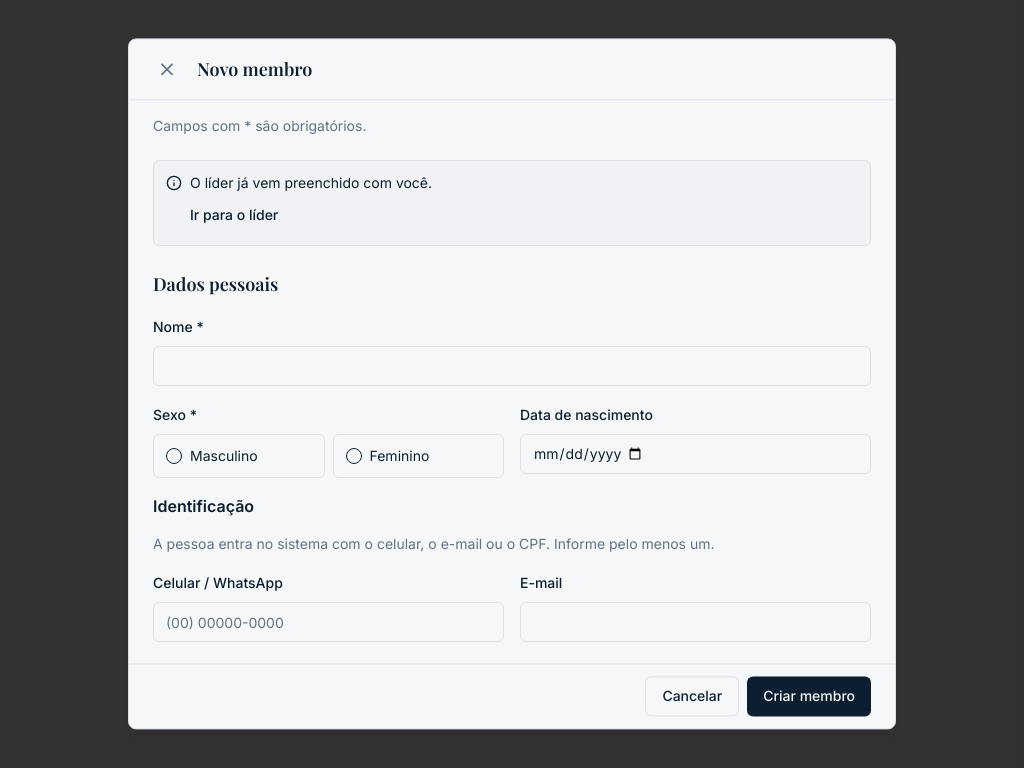
UX-06: celular (tabela da T3) › Dado +55 (51) 98888-7777 digitado ou colado, quando sai do campo, então mostra (51) 98888-7777 e nenhum dígito foi cortado antes
expect the button "Criar membro" is shown: met, box x1=747 y1=677 x2=871 y2=717
Type "+55 (51) 98888-7777" into the field labelled "Celular / WhatsApp" at [328, 622], box x1=153 y1=602 x2=504 y2=642
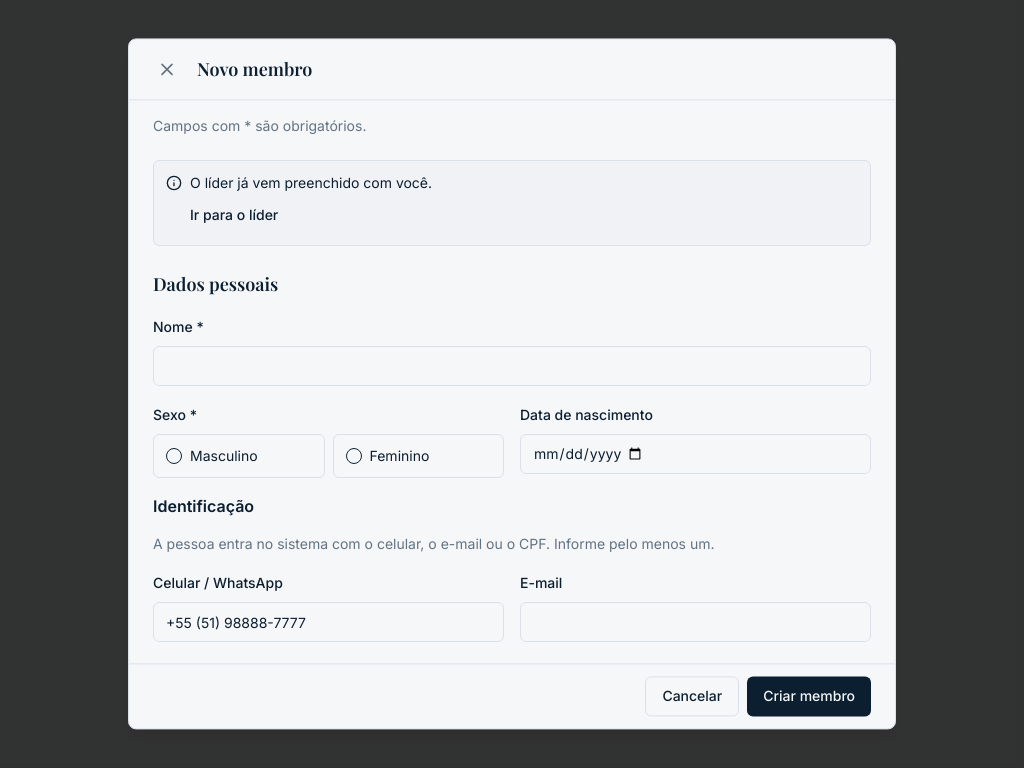
Leave the field labelled "Celular / WhatsApp", box x1=153 y1=602 x2=504 y2=642
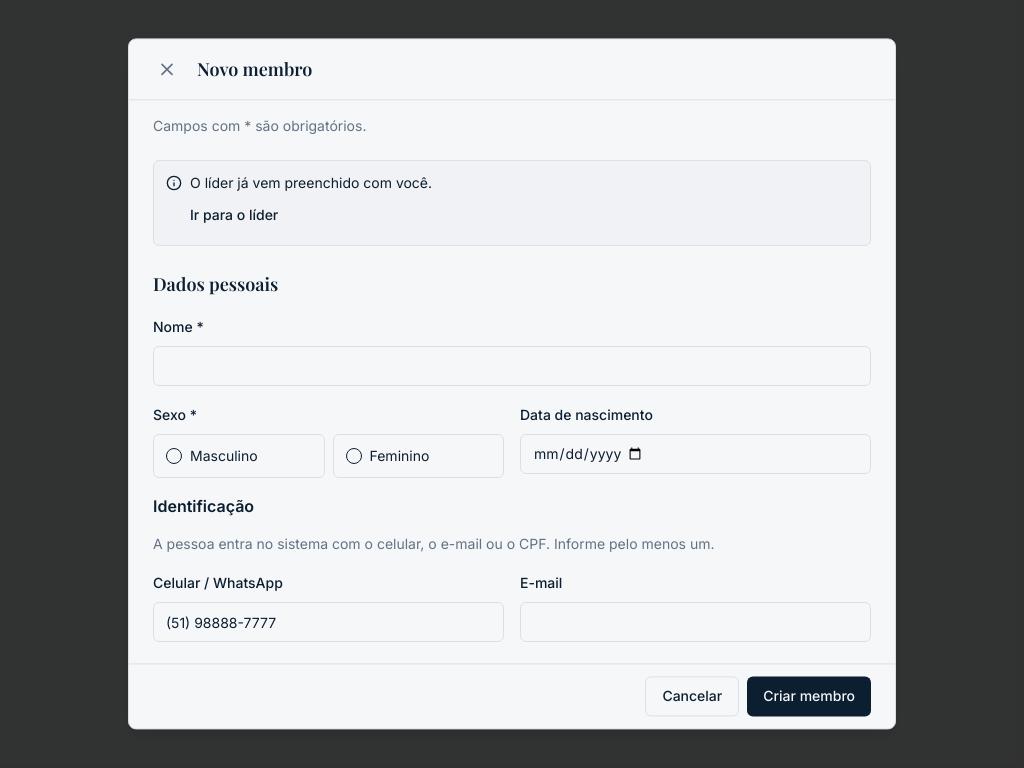
expect the field labelled "Celular / WhatsApp" holds "(51) 98888-7777": met, box x1=153 y1=602 x2=504 y2=642
